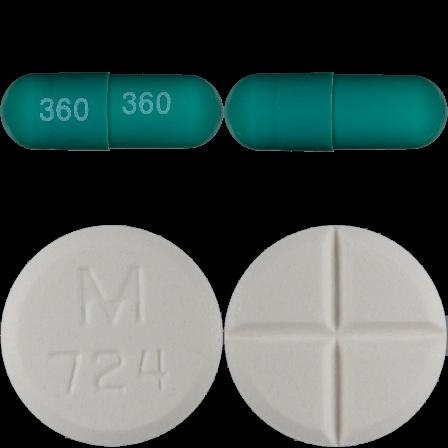43353-903: (0, 0, 224, 224)
